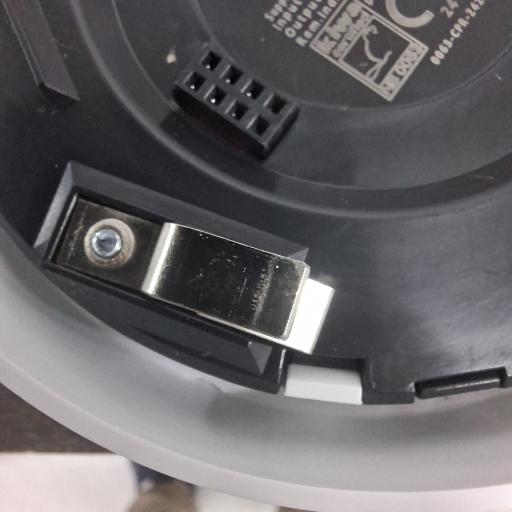yayli: (46, 194, 322, 350)
